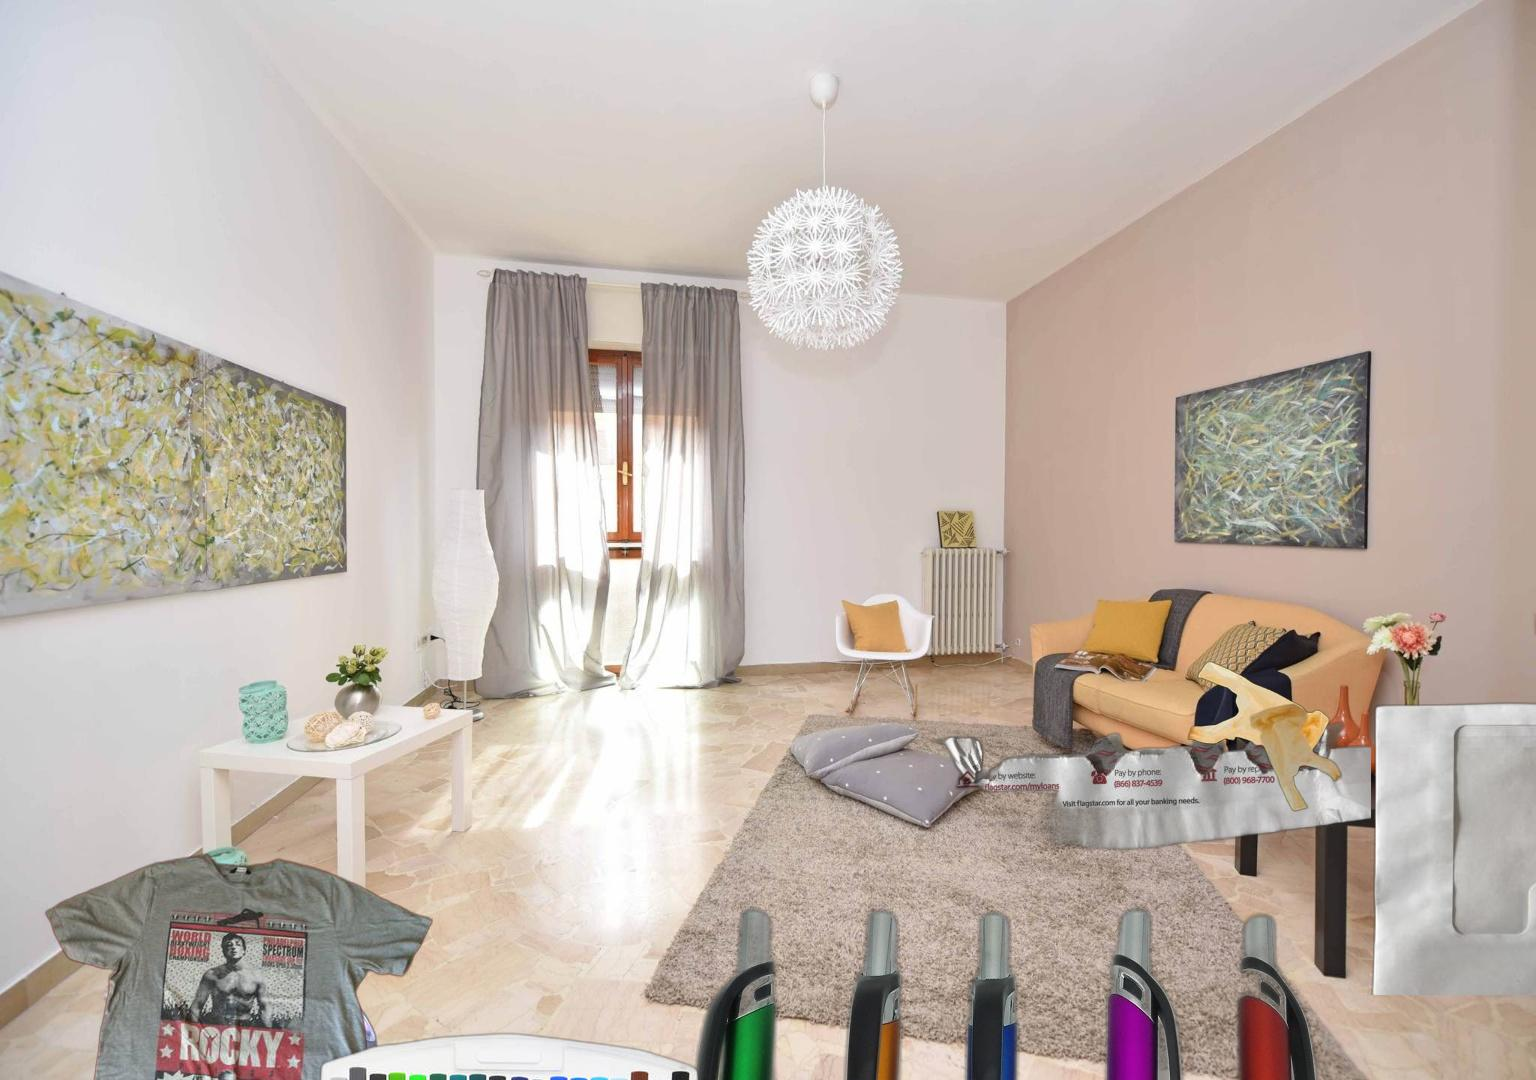clothes: (43, 850, 433, 1080)
metal-cans: (224, 978, 382, 1080)
paper: (859, 718, 1371, 853), (1367, 701, 1536, 995)
penholder: (678, 901, 1421, 1080), (281, 1029, 722, 1080)
plastic-bag: (1185, 660, 1344, 814)
